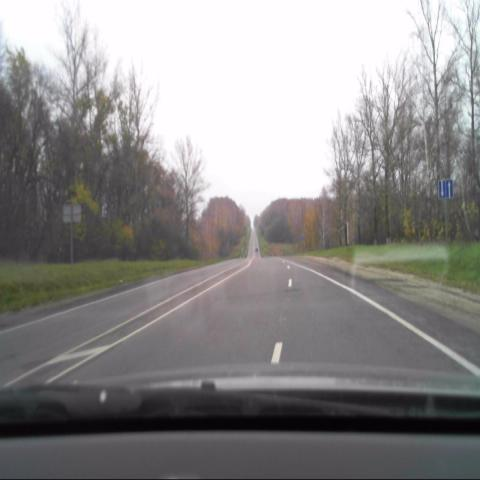5_15_7: (438, 179, 452, 197)
